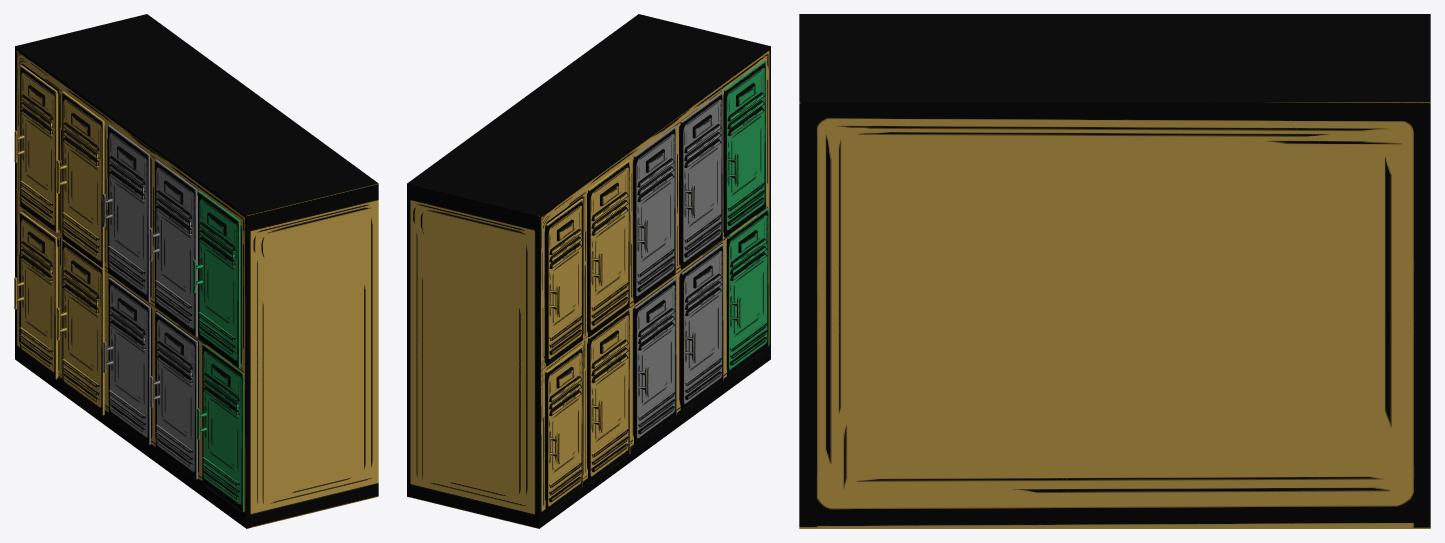
File: casilleros.fbx
The picture shows the model from 3 angles, left to right: view 1: azimuth 30°, elevation 25°; view 2: azimuth 150°, elevation 25°; view 3: azimuth 270°, elevation 25°; orthographic projection. The views are drawn at different scales.
Parts seen in each view (by area): view 1: pCube2, pasted__pCube19, pasted__pCube16, pasted__pCube15, pasted__pCube18, pasted__pasted__pCube15, pasted__pCube17, pasted__pasted__pCube17, pasted__pCube20, pasted__pCube5, pasted__pasted__pCube5; view 2: pCube2, pasted__pCube15, pasted__pCube18, pasted__pCube16, pasted__pCube19, pasted__pasted__pCube15, pasted__pasted__pCube17, pasted__pCube17, pasted__pCube20, pasted__pCube5, pasted__pasted__pCube5; view 3: pCube2.
Part boxes in pixels (left/top/right/bottom): pCube2: left=15, top=14, right=378, bottom=528; pasted__pCube19: left=193, top=191, right=240, bottom=368; pasted__pCube16: left=102, top=125, right=150, bottom=302; pasted__pCube15: left=56, top=91, right=104, bottom=268; pasted__pCube18: left=149, top=159, right=197, bottom=336; pasted__pasted__pCube15: left=56, top=239, right=104, bottom=415; pasted__pCube17: left=103, top=277, right=150, bottom=444; pasted__pasted__pCube17: left=150, top=312, right=197, bottom=479; pasted__pCube20: left=197, top=344, right=243, bottom=511; pasted__pCube5: left=14, top=65, right=58, bottom=232; pasted__pasted__pCube5: left=14, top=212, right=58, bottom=379; pCube2: left=407, top=14, right=770, bottom=528; pasted__pCube15: left=588, top=160, right=630, bottom=337; pasted__pCube18: left=680, top=92, right=722, bottom=269; pasted__pCube16: left=633, top=126, right=675, bottom=303; pasted__pCube19: left=724, top=60, right=766, bottom=237; pasted__pasted__pCube15: left=588, top=308, right=630, bottom=483; pasted__pasted__pCube17: left=680, top=243, right=723, bottom=410; pasted__pCube17: left=634, top=278, right=676, bottom=445; pasted__pCube20: left=727, top=208, right=768, bottom=376; pasted__pCube5: left=546, top=198, right=583, bottom=365; pasted__pasted__pCube5: left=545, top=345, right=582, bottom=512; pCube2: left=799, top=14, right=1430, bottom=528.
Size of the model in its own units: 0.9103 by 1.91 by 2.56.
